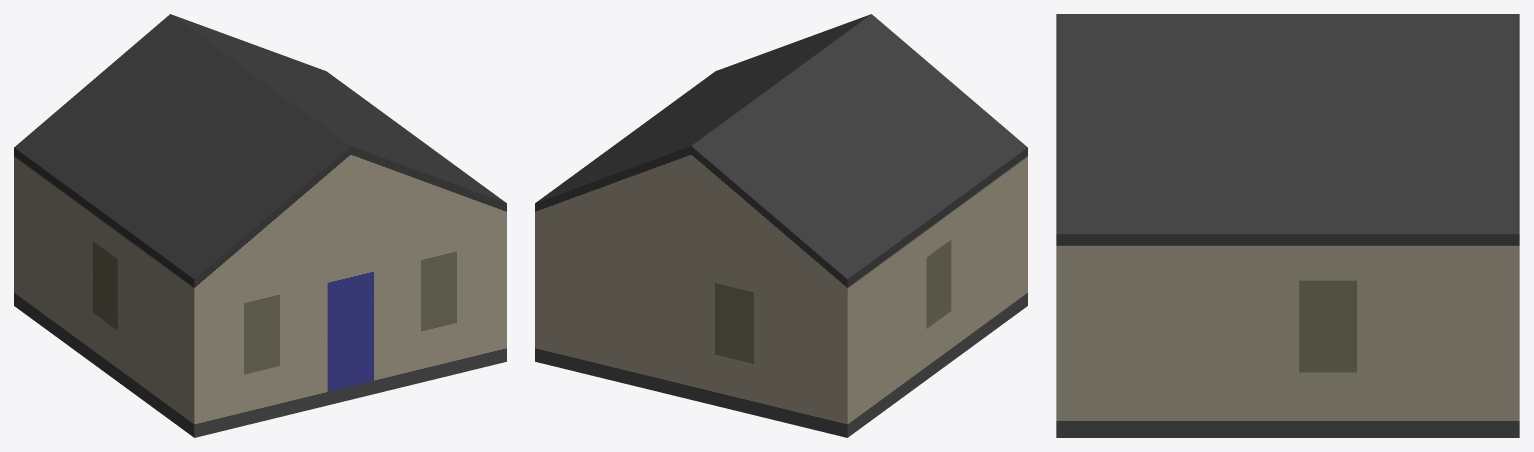
The model's file is House Simple.glb.
3 views of the same model, side by side, from view 1: azimuth 30°, elevation 25°; view 2: azimuth 150°, elevation 25°; view 3: azimuth 270°, elevation 25° (orthographic). The views are drawn at different scales.
Parts seen in each view (by area): view 1: House Simple.002; view 2: House Simple.002; view 3: House Simple.002.
Boxes of the visible parts, x1,y1,x2,y2 form: House Simple.002: [14, 14, 506, 437]; House Simple.002: [535, 14, 1027, 437]; House Simple.002: [1056, 14, 1519, 437].
Size of the model in its own units: 6 by 4.66 by 6.
1 material, 1 textured.
